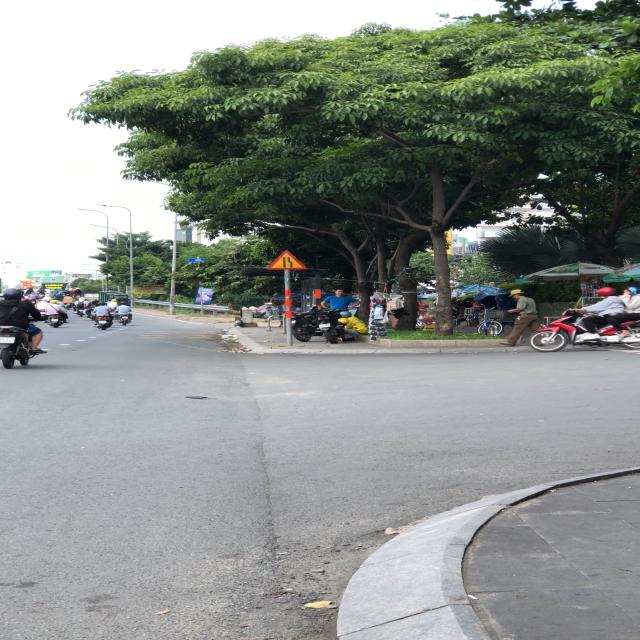Bien bao duong bi thu hep: (262, 248, 310, 270)
